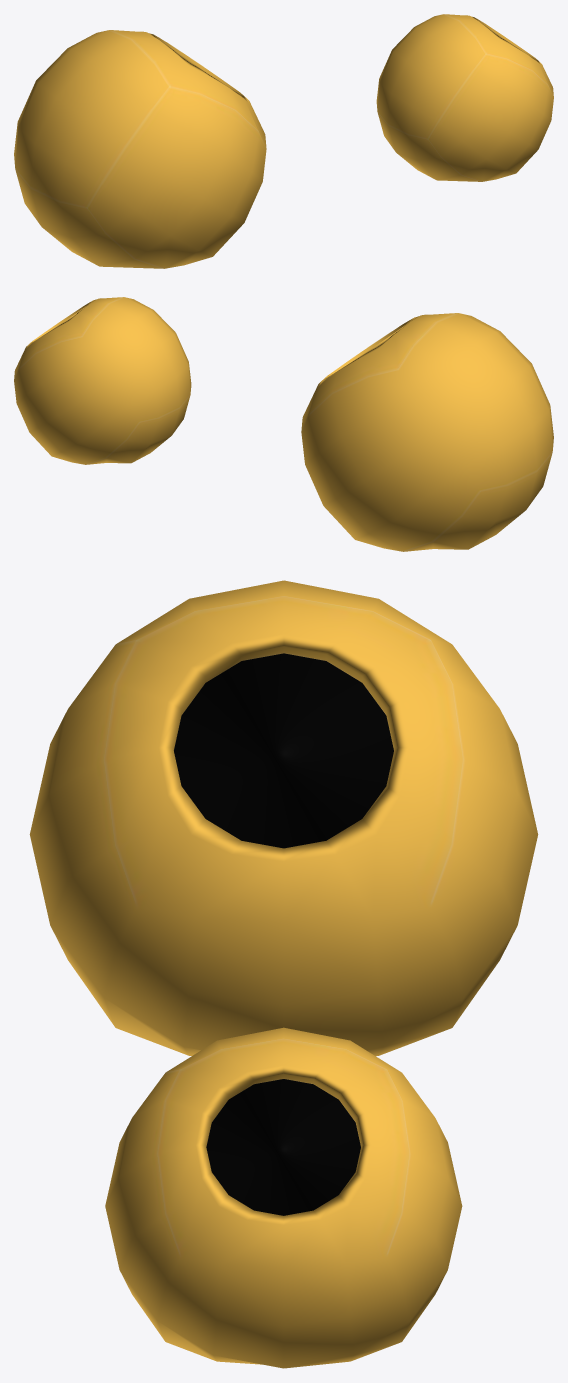
File: HW_Egg.fbx
3 renders of one model, top to bottom at view 1: azimuth 30°, elevation 25°; view 2: azimuth 150°, elevation 25°; view 3: azimuth 270°, elevation 25°, orthographic. The views are drawn at different scales.
Parts seen in each view (by area): view 1: prop_HW_Egg; view 2: prop_HW_Egg; view 3: prop_HW_Egg.
Boxes of the visible parts, x1=… form: prop_HW_Egg: x1=14, y1=14, x2=553, y2=268; prop_HW_Egg: x1=14, y1=297, x2=553, y2=551; prop_HW_Egg: x1=29, y1=580, x2=538, y2=1368.
Size of the model in its own units: 0.2068 by 0.0797 by 0.089.
